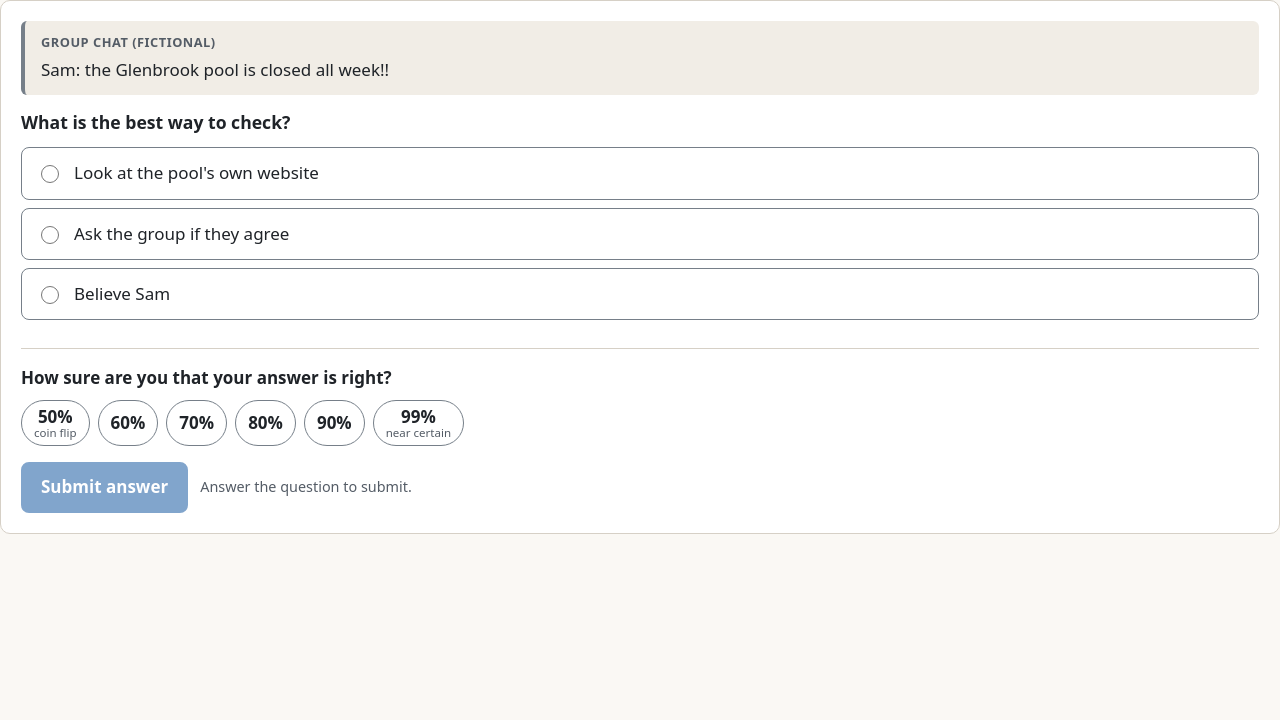
Test case: MultipleChoice › needs an answer and a confidence, then explains every option
Later steps or results of the test are not shown.
Expected: the button "Submit answer" is disabled, [21,462,188,513]
Click the radio button labelled "Ask the group if they agree" at (50, 234), box [41,226,59,244]
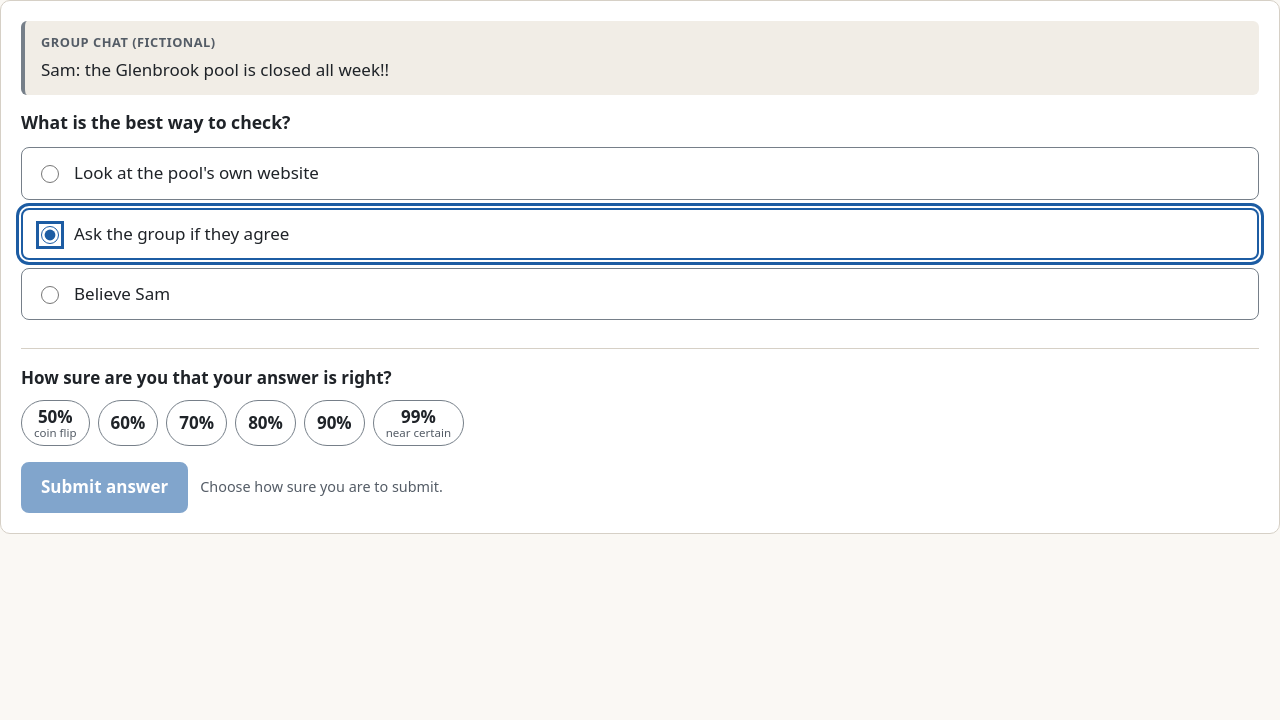
Expected: the button "Submit answer" is disabled, [21,462,188,513]
Expected: the text "Choose how sure you are to submit." is shown, [200,476,443,499]
Click the radio button labelled "90%" at (334, 423), box [304,400,365,446]
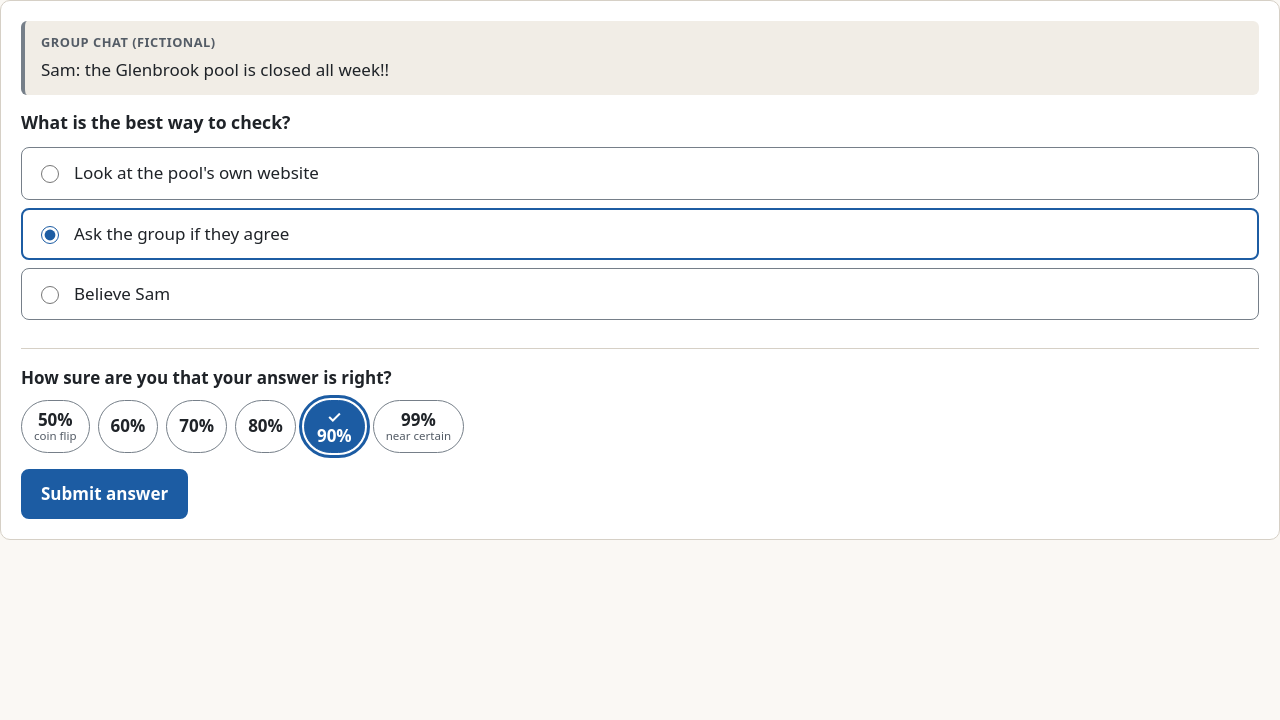
Click the button "Submit answer" at (105, 494), box [21,469,188,519]
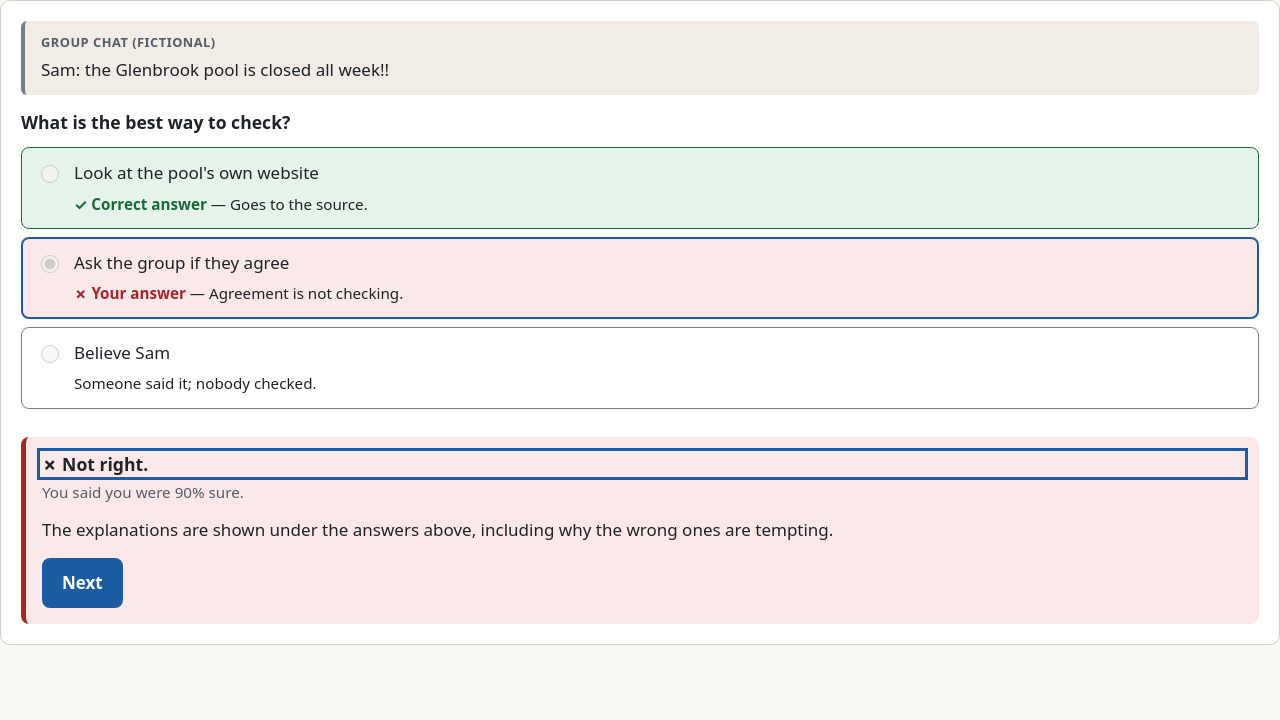
Expected: the heading "✗ Not right." is shown, [42,452,148,476]
Expected: the text "✗ Your answer — Agreement is not checking." is shown, [74,282,403,306]
Expected: the text "✓ Correct answer — Goes to the source." is shown, [74,192,368,216]
